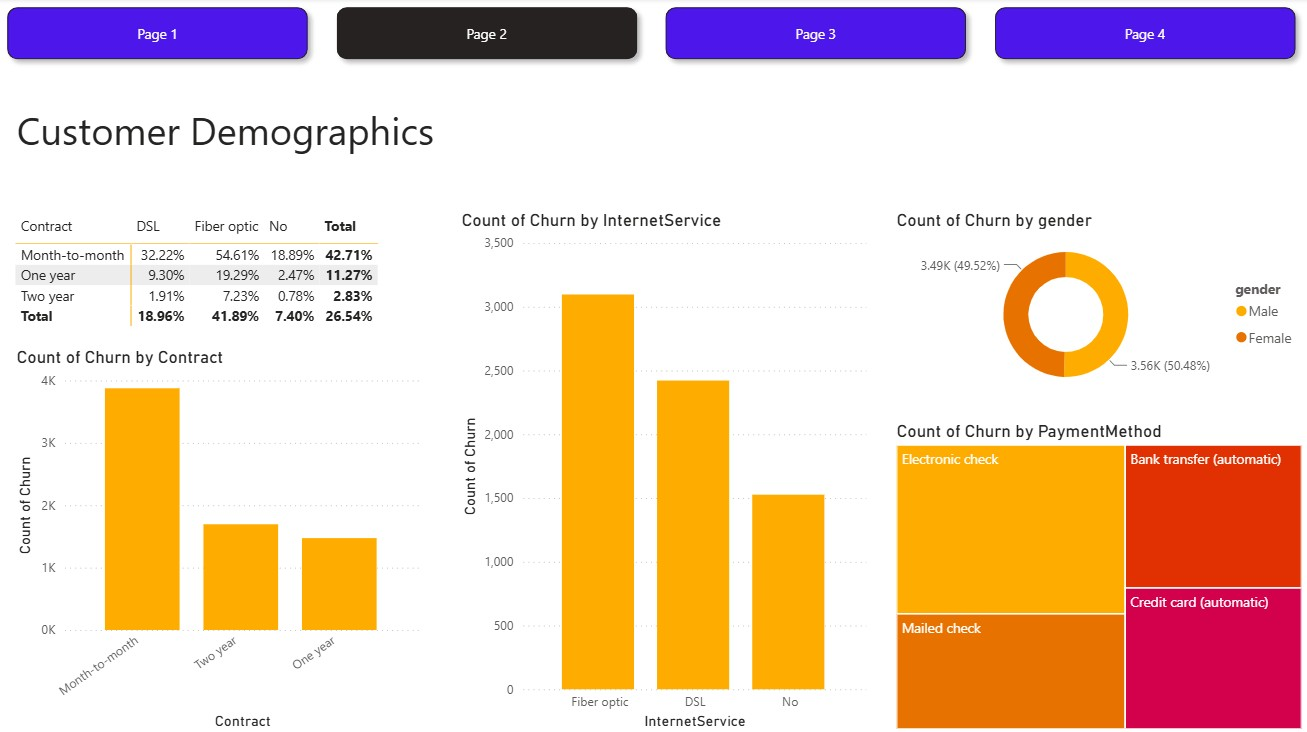

This screenshot's page, from the dashboard's own definition file:
{"tool":"powerbi","page":{"name":"Page 2","canvas":[1280,720],"ordinal":1},"visuals":[{"type":"clusteredColumnChart","fields":{"Category":["Customer.Contract"],"Y":["CountNonNull(Customer.Churn)"]},"box":[13.5,341.2,404.8,379.1],"z":0},{"type":"donutChart","fields":{"Category":["Customer.gender"],"Y":["CountNonNull(Customer.Churn)"]},"box":[874.3,206.7,406,187.1],"z":1000},{"type":"clusteredColumnChart","fields":{"Category":["Customer.InternetService"],"Y":["CountNonNull(Customer.Churn)"]},"box":[448.8,206.7,406,513.6],"z":2000},{"type":"treemap","fields":{"Group":["Customer.PaymentMethod"],"Values":["CountNonNull(Customer.Churn)"]},"box":[874.3,413.3,406,306.9],"z":3000},{"type":"pivotTable","fields":{"Rows":["Customer.Contract"],"Columns":["Customer.InternetService"],"Values":["Customer.Churn Rate"]},"box":[12.2,206.7,406,124.7],"z":4000},{"type":"textbox","box":[13.5,99,435.3,68.5],"z":5000},{"type":"pageNavigator","box":[0,0,1280.3,69.7],"z":6000}]}

Visuals, with their boxes in screenshot pixels (x1, y1, x2, y2), scaled from the page's 1280x720 canvas onto the 1307x732 screenshot:
clusteredColumnChart - Customer.Contract x CountNonNull(Customer.Churn): (14, 347, 427, 731)
donutChart - Customer.gender x CountNonNull(Customer.Churn): (893, 210, 1306, 400)
clusteredColumnChart - Customer.InternetService x CountNonNull(Customer.Churn): (458, 210, 873, 731)
treemap - Customer.PaymentMethod x CountNonNull(Customer.Churn): (893, 420, 1306, 731)
pivotTable - Customer.Contract x Customer.InternetService: (12, 210, 427, 337)
textbox: (14, 101, 458, 170)
pageNavigator: (0, 0, 1306, 71)
